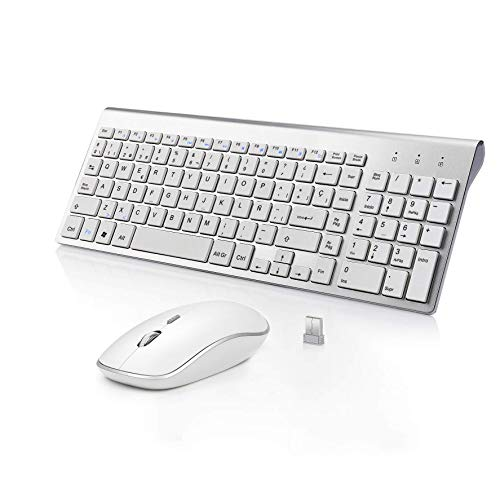Teclado: (46, 95, 483, 317)
